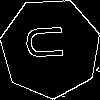U: (26, 23, 73, 61)
